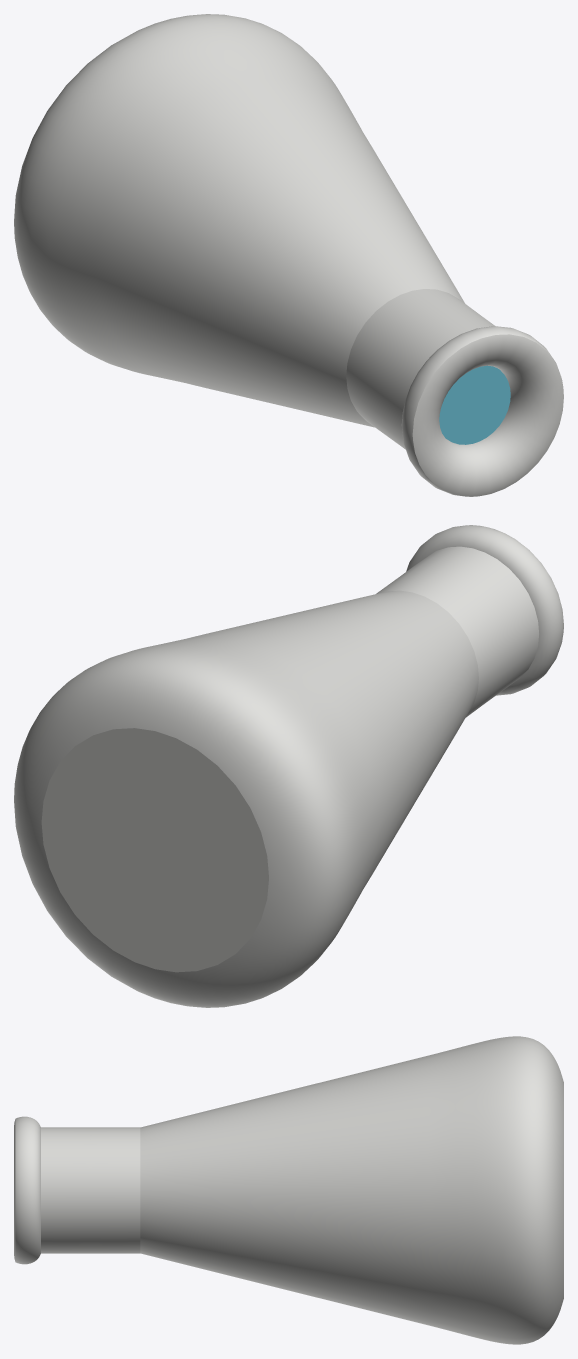
File: flask.fbx
The picture shows the model from 3 angles, top to bottom: view 1: azimuth 30°, elevation 25°; view 2: azimuth 150°, elevation 25°; view 3: azimuth 270°, elevation 25°; orthographic projection. The views are drawn at different scales.
Visible parts, largest first — view 1: Body1, Body3; view 2: Body1; view 3: Body1.
Boxes of the visible parts, x1=… form: Body1: x1=14, y1=14, x2=563, y2=496; Body3: x1=439, y1=365, x2=510, y2=444; Body1: x1=14, y1=525, x2=563, y2=1007; Body1: x1=14, y1=1036, x2=563, y2=1344.
Bounding box in the file's own units: 171 × 171 × 305.
